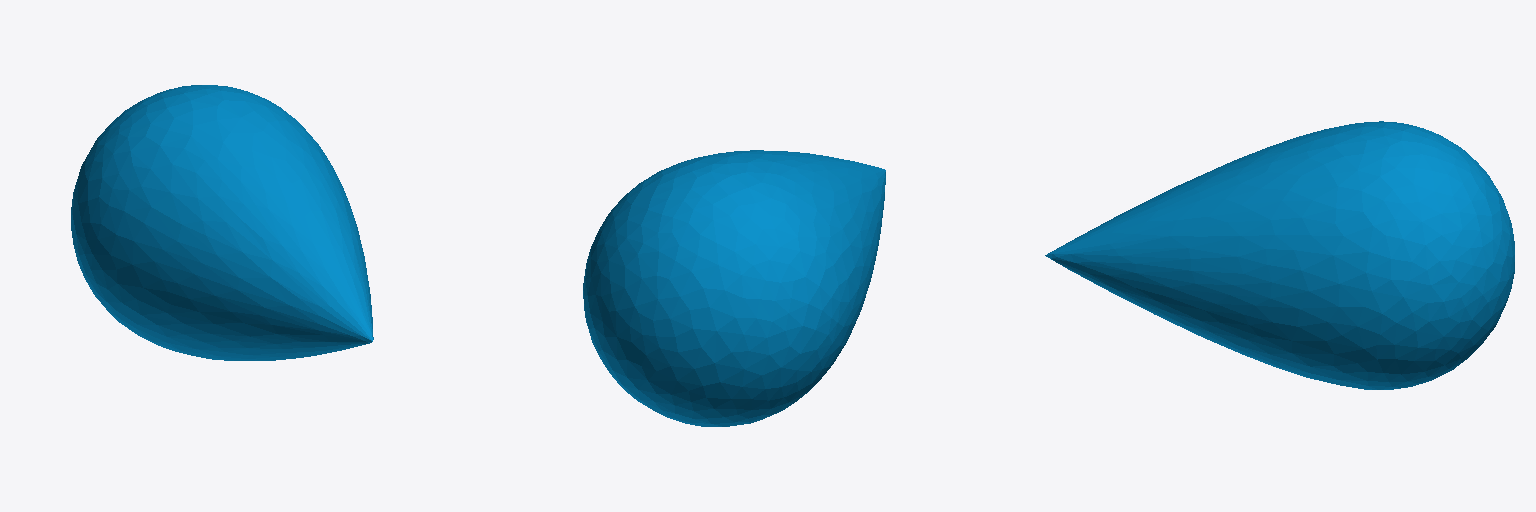
The model's file is tear.obj.
3 views of the same model, side by side, from view 1: azimuth 30°, elevation 25°; view 2: azimuth 150°, elevation 25°; view 3: azimuth 270°, elevation 25° (orthographic).
Visible parts, largest first — view 1: Icosphere; view 2: Icosphere; view 3: Icosphere.
Part boxes in pixels (left/top/right/bottom): Icosphere: left=71, top=85, right=373, bottom=360; Icosphere: left=583, top=150, right=885, bottom=426; Icosphere: left=1045, top=121, right=1514, bottom=389.
Size of the model in its own units: 2 by 2 by 3.5.